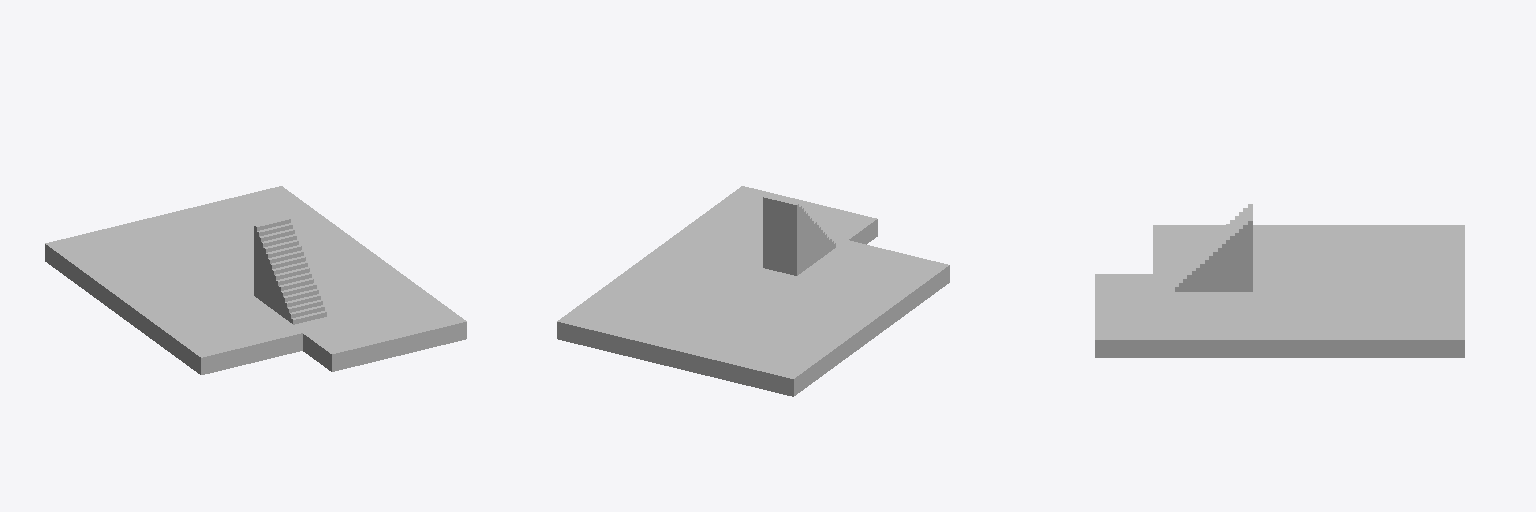
The model's file is house_basement_floor.obj.
3 views of the same model, side by side, from view 1: azimuth 30°, elevation 25°; view 2: azimuth 150°, elevation 25°; view 3: azimuth 270°, elevation 25° (orthographic).
Visible parts, largest first — view 1: Cube.005_Mesh, Cube.060_Mesh; view 2: Cube.005_Mesh, Cube.060_Mesh; view 3: Cube.005_Mesh, Cube.060_Mesh.
Part boxes in pixels (x1,y1,x2,y2): Cube.005_Mesh: (45, 186, 466, 374); Cube.060_Mesh: (254, 217, 326, 324); Cube.005_Mesh: (557, 186, 949, 396); Cube.060_Mesh: (763, 195, 835, 275); Cube.005_Mesh: (1095, 225, 1464, 357); Cube.060_Mesh: (1175, 204, 1252, 291).
Bounding box in the file's own units: 28 × 10 × 38.